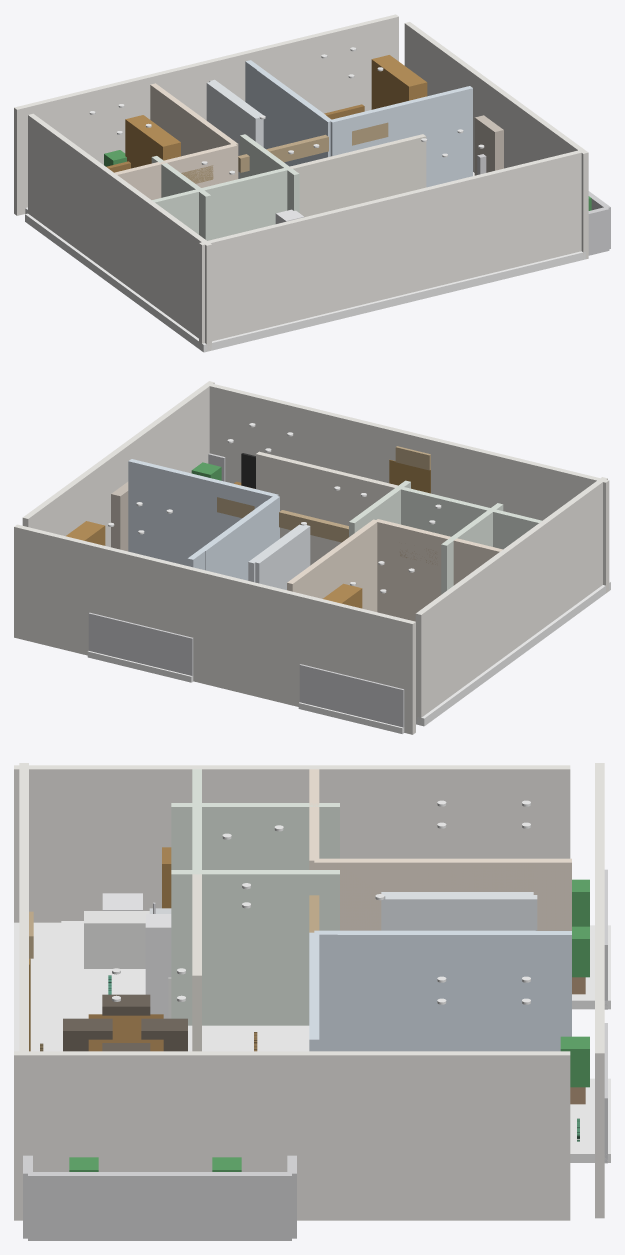
The model's file is house.glb.
The picture shows the model from 3 angles, top to bottom: view 1: azimuth 30°, elevation 25°; view 2: azimuth 150°, elevation 25°; view 3: azimuth 270°, elevation 25°; orthographic projection. The views are drawn at different scales.
Parts seen in each view (by area): view 1: W_South, W_North, W_West, W_East, W_BD_S, Floor_Main, W_DN_N, W_KT_N, W_TB2_BD.001, W_MB_S, W_MB_TB, BD_Wardrobe (+11 smaller); view 2: W_North, W_South, W_West, W_East, W_BD_S, W_MB_S, W_DN_N, Rail_TL, Rail_TR, W_MB_TB1, W_TB2_BD.001, W_KT_N (+18 smaller); view 3: W_East, W_West, W_TB2_BD, W_KT_E, Rail_R_E, W_MB_TB, W_UT_E, W_TB12, W_MB_TB1, W_North, Floor_Main, KT_Ctr_W (+25 smaller).
Boxes of the visible parts, x1,y1,x2,y2 form: W_South: (199,150,582,349); W_North: (14,14,398,215); W_West: (28,113,211,351); W_East: (404,22,588,259); W_BD_S: (330,86,472,187); Floor_Main: (25,172,585,352); W_DN_N: (288,143,389,217); W_KT_N: (199,167,289,239); W_TB2_BD.001: (256,69,332,166); W_MB_S: (114,144,237,199); W_MB_TB: (150,83,230,156); BD_Wardrobe: (371,55,427,109); W_North: (14,524,415,734); W_South: (207,383,609,593); W_West: (415,477,607,724); W_East: (22,381,214,547); W_BD_S: (128,459,278,565); W_MB_S: (375,519,502,621); W_DN_N: (294,461,397,565); Rail_TL: (299,664,404,733); Rail_TR: (88,612,193,681); W_MB_TB1: (299,519,377,611); W_TB2_BD.001: (203,496,279,580); W_KT_N: (399,487,492,536); W_East: (14,1051,570,1220); W_West: (14,765,570,922); W_TB2_BD: (337,931,571,1051); W_KT_E: (171,870,339,1025); Rail_R_E: (28,1172,291,1240); W_MB_TB: (337,858,571,930); W_UT_E: (171,803,339,869); W_TB12: (385,895,537,930); W_MB_TB1: (314,858,535,930); W_North: (595,763,604,1218); Floor_Main: (14,922,61,1051); KT_Ctr_W: (84,911,149,968).
Bounding box in the file's own units: 11.37 × 2.82 × 9.18.
